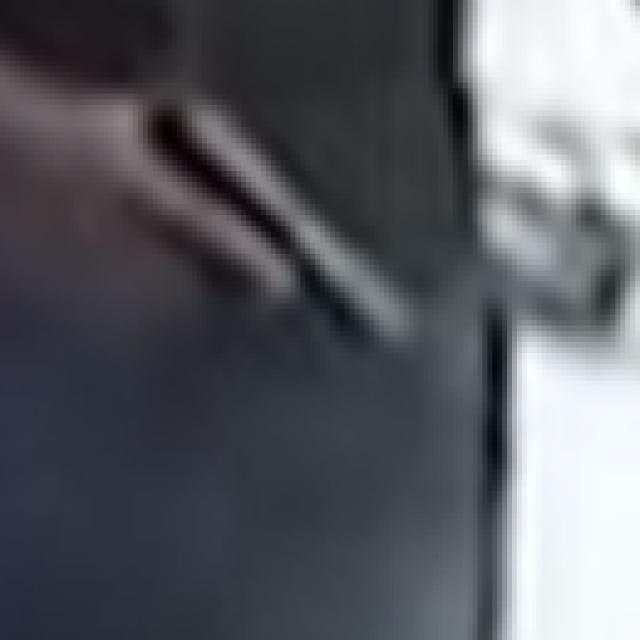FPistol: (158, 72, 404, 374)
